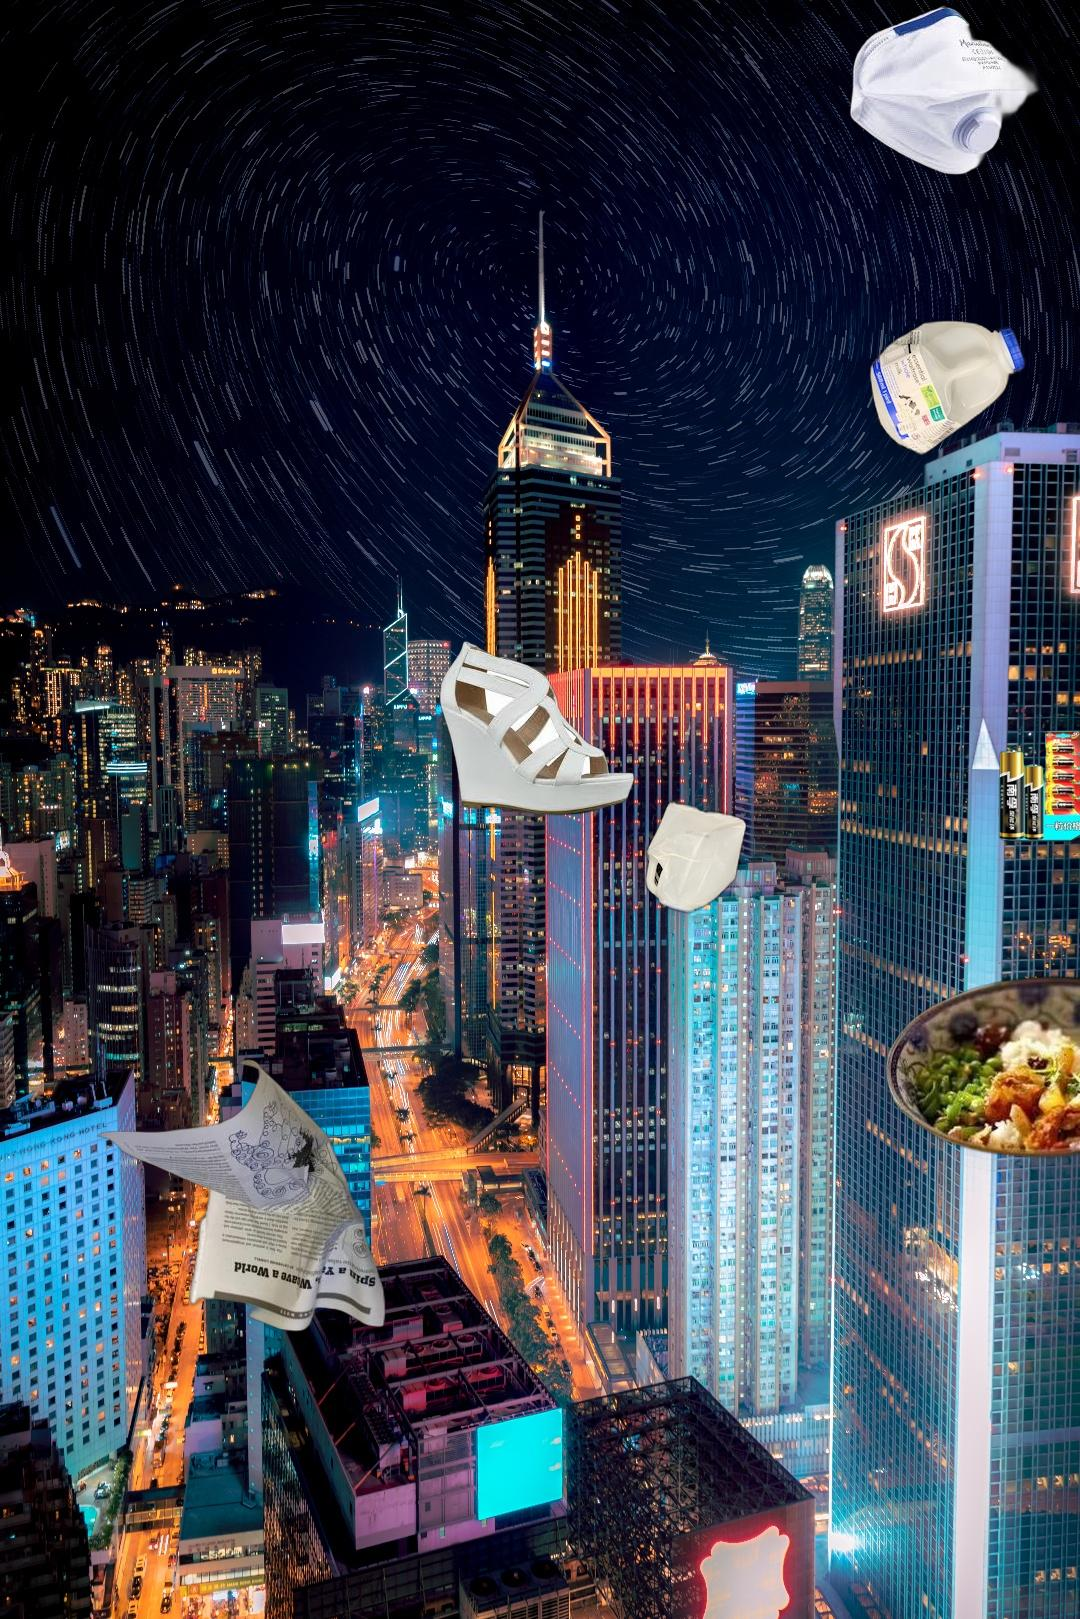battery: (996, 727, 1080, 851)
biological: (884, 974, 1080, 1178)
paper: (94, 1057, 391, 1333)
plastic-bottles: (865, 313, 1031, 461), (642, 787, 751, 920)
shoes: (438, 637, 636, 819)
trash: (847, 2, 1043, 178)
